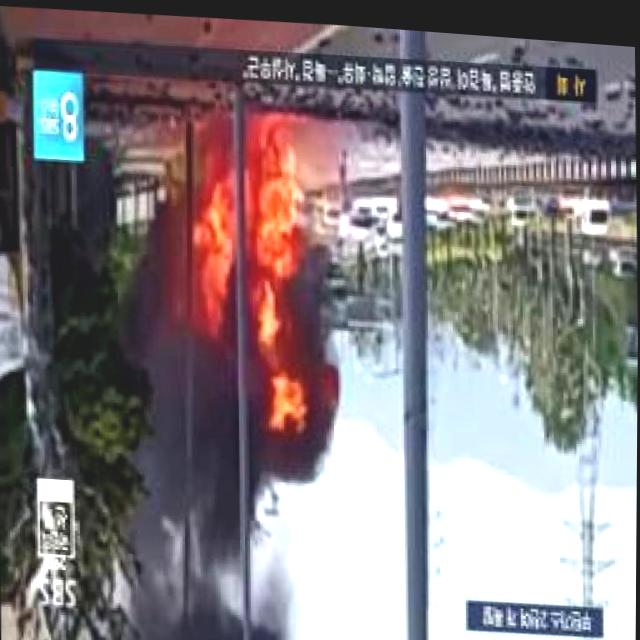helmet: (163, 98, 321, 468)
no_helmet: (117, 316, 290, 640)
